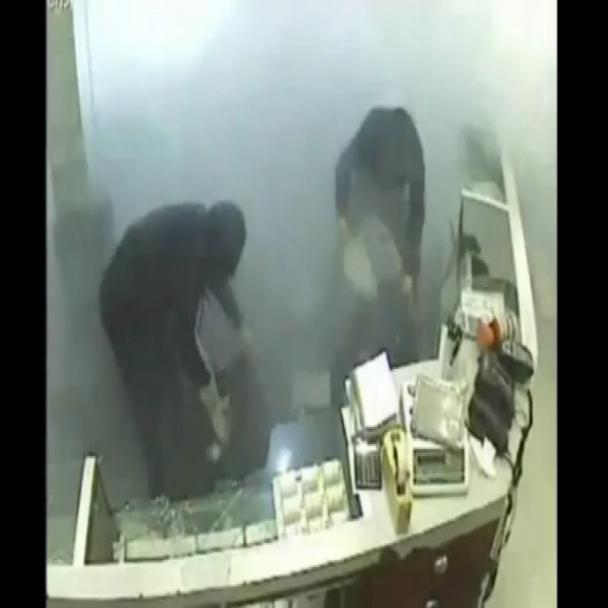smoke: (60, 18, 555, 585)
